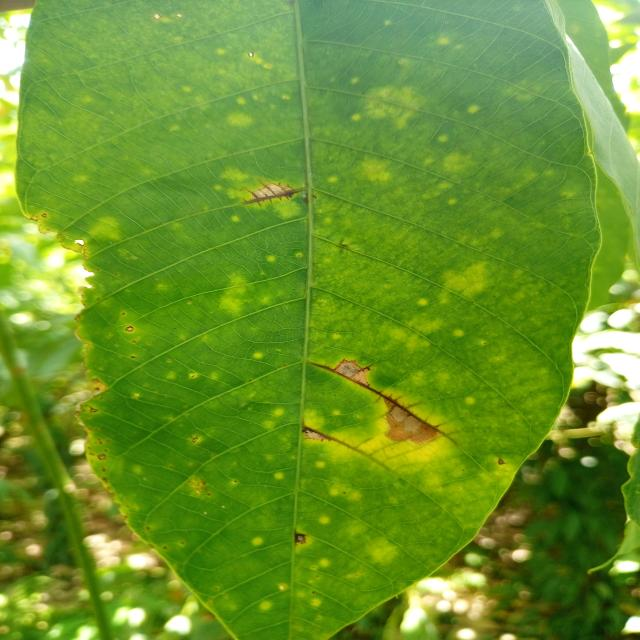Colletotrichum: (125, 326, 134, 332), (154, 13, 161, 20), (98, 454, 106, 460), (297, 535, 304, 541), (248, 52, 254, 58), (283, 364, 286, 366)
Corynespora: (313, 362, 440, 432), (301, 423, 371, 459), (241, 180, 298, 207), (359, 363, 374, 372)
Leaf-Blight: (385, 400, 438, 443), (336, 359, 370, 386)
